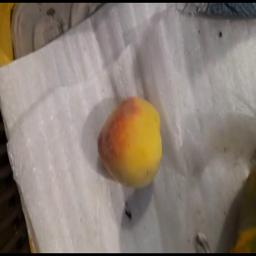Peach Semifresh: (85, 90, 178, 199)
